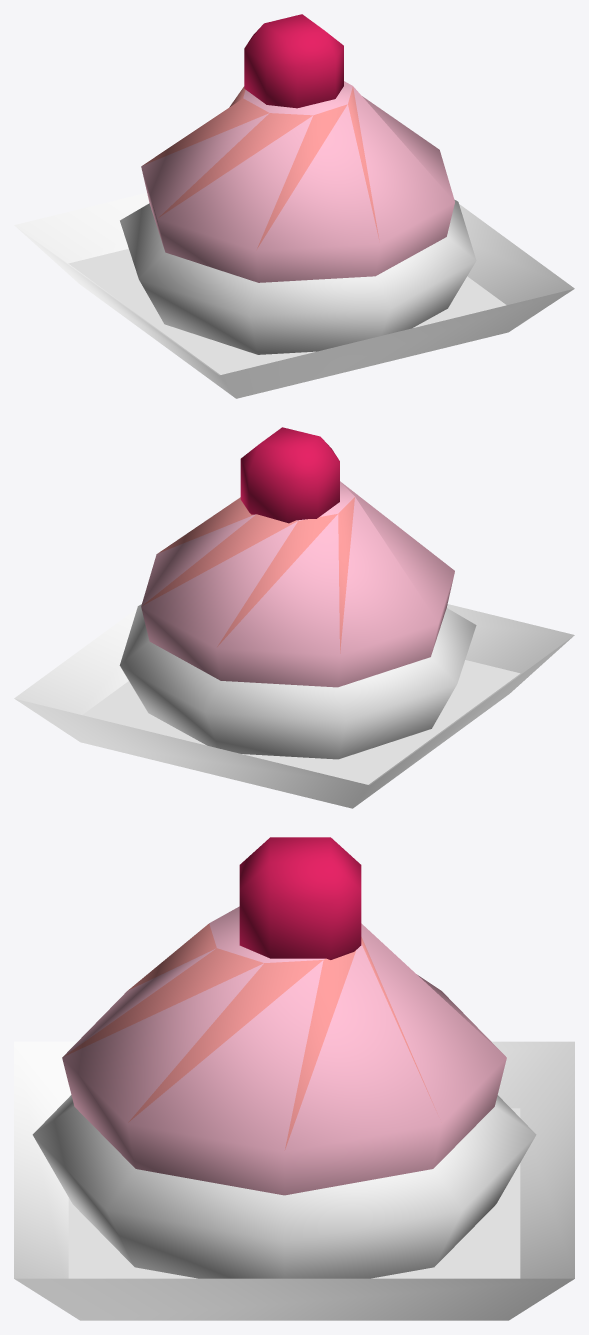
Rendered from shop_062.glb.
The picture shows the model from 3 angles, top to bottom: view 1: azimuth 30°, elevation 25°; view 2: azimuth 150°, elevation 25°; view 3: azimuth 270°, elevation 25°; orthographic projection. The views are drawn at different scales.
Parts seen in each view (by area): view 1: shop_062; view 2: shop_062; view 3: shop_062.
Boxes of the visible parts, x1,y1,x2,y2 form: shop_062: (14, 14, 574, 398); shop_062: (14, 427, 574, 808); shop_062: (14, 837, 574, 1320).
Size of the model in its own units: 0.1134 by 0.0851 by 0.1134.
1 material, 1 textured.
